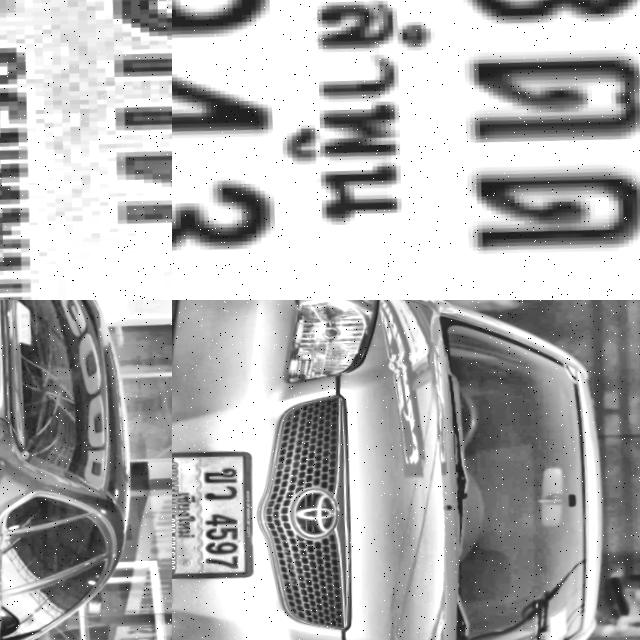license-plate: (172, 0, 640, 300), (0, 0, 172, 300), (172, 445, 269, 583)
